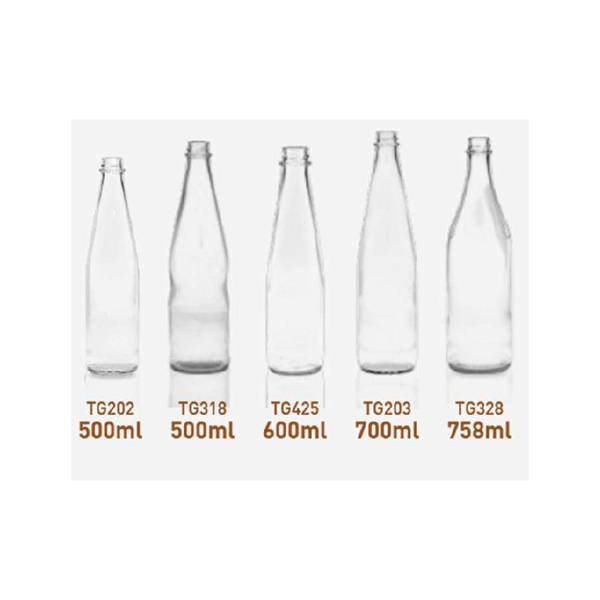glass_bottle: (440, 129, 521, 381), (159, 133, 237, 378), (254, 139, 331, 381), (350, 126, 423, 381), (79, 149, 146, 383)
